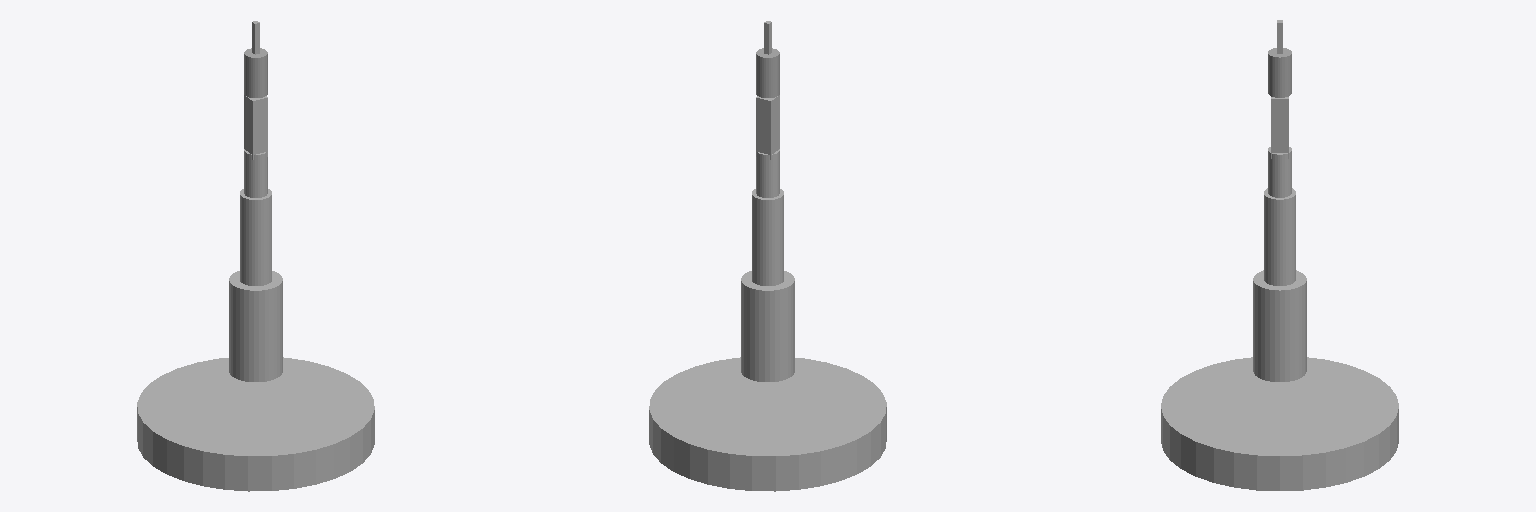
robot.urdf — manipulator:
<?xml version="1.0" ?>
<robot name="manipulator">
    <material name="yellow">
        <color rgba="0.0 0.8 0.0 1.0" />
    </material>
    <material name="red">
        <color rgba="0.0 0.8 0.0 1.0" />
    </material>
    <material name="black">
        <color rgba="0.0 0.0 0.0 1.0" />
    </material>
    <material name="blue">
        <color rgba="0.0 0.0 0.0 1.0" />
    </material>
    <material name="white">
        <color rgba="0.0 0.0 0.0 1.0" />
    </material>
    <link name="world" />
    <!-- BASE LINK -->
    <link name="base_link">
        <visual>
            <origin rpy="0 0 0" xyz="0 0 0.01" />
            <material name="silver">
                <color rgba="0.75 0.75 0.75 1" />
            </material>
        </visual>
        <collision>
            <origin rpy="0 0 0" xyz="0 0 0.01" />
            <geometry>
                <cylinder length="0.02" radius="0.5" />
            </geometry>
        </collision>

<inertial>
            <mass value="0.1" />
            <inertia ixx="0.03" iyy="0.03" izz="0.03" ixy="0.0" ixz="0.0" iyz="0.0" />
        </inertial>

    </link>
    <gazebo reference="base_link">
        <material>Gazebo/White</material>
        <turnGravityOff>false</turnGravityOff>
    </gazebo>
    <!-- joint -->
    <joint name="fixed" type="fixed">
        <parent link="world" />
        <child link="base_link" />
    </joint>
    <!-- LINK 1 -->
    <link name="link1">
        <visual>
            <!-- <origin rpy="0 0 0" xyz="0 0 0.05" /> -->
            <origin rpy="0 0 0" xyz="0 0 0.065" />
            <!-- linknte paathi distance -->
            <geometry>
                <cylinder length="0.13" radius="0.40" />
            </geometry>
            <material name="silver">
                <color rgba="0.75 0.75 0.75 1" />
            </material>
        </visual>
        <collision>
            <origin rpy="0 0 0" xyz="0 0 0.065" />
            <geometry>
                <cylinder length="0.130" radius="0.40" />
            </geometry>
        </collision>

<inertial>
            <mass value="0.1" />
            <inertia ixx="0.03" iyy="0.03" izz="0.03" ixy="0.0" ixz="0.0" iyz="0.0" />
        </inertial>

    </link>
    <gazebo reference="link1">
        <material>Gazebo/Black</material>
        <turnGravityOff>false</turnGravityOff>
    </gazebo>
    <!-- JOINT 1 -->
    <joint name="joint1" type="revolute">
        <!-- <origin rpy="0 0 0" xyz="0 0 0.01" /> -->
        <origin rpy="0 0 0" xyz="0 0 0" />
        <!--parent linknte distance -->
        <parent link="base_link" />
        <child link="link1" />
        <axis xyz="0 0 1" />
        <limit lower="-6.28" upper="6.28" effort="100" velocity="1" />
        <dynamics damping="0.01" friction="0.01" />
    </joint>
    <!-- LINK 2 -->
    <link name="link2">
        <visual>
            <!-- <origin rpy="0 0 0" xyz="0 0 0.15" /> -->
            <origin rpy="0 0 0" xyz="0 0 0.17" />
            <geometry>
                <cylinder length="0.34" radius="0.09" />
            </geometry>
            <material name="silver">
                <color rgba="0.75 0.75 0.75 1" />
            </material>
        </visual>
        <collision>
            <!-- <origin rpy="0 0 0" xyz="0 0 0.15" /> -->
            <origin rpy="0 0 0" xyz="0 0 0.125" />
            <geometry>
                <cylinder length="0.25" radius="0.09" />
            </geometry>
        </collision>

<inertial>
            <mass value="0.1" />
            <inertia ixx="0.03" iyy="0.03" izz="0.03" ixy="0.0" ixz="0.0" iyz="0.0" />
        </inertial>

    </link>
    <gazebo reference="link2">
        <material>Gazebo/Blue</material>
        <turnGravityOff>false</turnGravityOff>
    </gazebo>
    <!-- JOINT 2 -->
    <joint name="joint2" type="revolute">
        <origin rpy="0 0 0" xyz="0 0 0.26" />
        <parent link="link1" />
        <child link="link2" />
        <axis xyz="0 1 0" />
        <limit lower="-1.4835" upper="1.4835" effort="100" velocity="1" />
        <dynamics damping="0.01" friction="0.01" />
    </joint>
    <!-- LINK 3 -->
    <link name="link3">
        <visual>
            <!-- <origin rpy="0 0 0" xyz="0 0 0.15" /> -->
            <origin rpy="0 0 0" xyz="0 0 0.17" />
            <geometry>
                <cylinder length="0.340" radius="0.055" />
            </geometry>
            <material name="silver">
                <color rgba="0.75 0.75 0.75 1" />
            </material>
        </visual>
        <collision>
            <!-- <origin rpy="0 0 0" xyz="0 0 0.15" /> -->
            <origin rpy="0 0 0" xyz="0 0 0.125" />
            <geometry>
                <cylinder length="0.25" radius="0.055" />
            </geometry>
        </collision>

<inertial>
            <mass value="0.1" />
            <inertia ixx="0.03" iyy="0.03" izz="0.03" ixy="0.0" ixz="0.0" iyz="0.0" />
        </inertial>

    </link>
    <gazebo reference="link3">
        <material>Gazebo/Black</material>
        <turnGravityOff>false</turnGravityOff>
    </gazebo>
    <!-- JOINT 3 -->
    <joint name="joint3" type="revolute">
        <origin rpy="0 0 0" xyz="0 0 0.32" />
        <parent link="link2" />
        <child link="link3" />
        <axis xyz="0 1 0" />
        <limit lower="-1.4835" upper="1.4835" effort="100" velocity="1" />
        <dynamics damping="0.01" friction="0.01" />
    </joint>
    <!-- LINK 4 -->
    <link name="link4">
        <visual>
            <!-- <origin rpy="0 0 0" xyz="0 0 0.05" /> -->
            <origin rpy="0 0 0" xyz="0 0 0.09" />
            <geometry>
                <!-- <box size="0.03 0.03 0.1" /> -->
                <cylinder length="0.180" radius="0.04" />
            </geometry>
            <material name="silver">
                <color rgba="0.75 0.75 0.75 1" />
            </material>
        </visual>
        <collision>
            <!-- <origin rpy="0 0 0" xyz="0 0 0.05" /> -->
            <origin rpy="0 0 0" xyz="0 0 0.45" />
            <geometry>
                <!-- <box size="0.03 0.03 0.1" /> -->
                <cylinder length="0.09" radius="0.04" />
            </geometry>
        </collision>

<inertial>
            <mass value="0.1" />
            <inertia ixx="0.03" iyy="0.03" izz="0.03" ixy="0.0" ixz="0.0" iyz="0.0" />
        </inertial>

    </link>
    <gazebo reference="link4">
        <material>Gazebo/Blue</material>
        <turnGravityOff>false</turnGravityOff>
    </gazebo>
    <!-- JOINT 4 -->
    <joint name="joint4" type="revolute">
        <origin rpy="0 0 0" xyz="0 0 0.32" />
        <parent link="link3" />
        <child link="link4" />
        <axis xyz="0 1 0" />
        <limit lower="-1.4835" upper="1.4835" effort="100" velocity="1" />
        <dynamics damping="0.01" friction="0.01" />
    </joint>
    <!-- LINK 5 -->
    <link name="link5">
        <visual>
            <!-- <origin rpy="0 0 0" xyz="0 0 0.05" /> is always in the middle of the geomtry-->
            <origin rpy="0 0 0" xyz="0 0 0.11" />
            <geometry>
                <box size="0.06 0.06 0.22" />
            </geometry>
            <material name="silver">
                <color rgba="0.75 0.75 0.75 1" />
            </material>
        </visual>
        <collision>
            <!-- <origin rpy="0 0 0" xyz="0 0 0.05" /> -->
            <origin rpy="0 0 0" xyz="0 0 0.05" />
            <geometry>
                <box size="0.06 0.06 0.1" />
            </geometry>
        </collision>

<inertial>
            <mass value="0.1" />
            <inertia ixx="0.03" iyy="0.03" izz="0.03" ixy="0.0" ixz="0.0" iyz="0.0" />
        </inertial>

    </link>
    <gazebo reference="link5">
        <material>Gazebo/Black</material>
        <turnGravityOff>false</turnGravityOff>
    </gazebo>
    <!-- JOINT 5 -->
    <joint name="joint5" type="revolute">
        <origin rpy="0 0 0" xyz="0 0 0.16" />
        <parent link="link4" />
        <child link="link5" />
        <axis xyz="0 0 1" />
        <limit lower="-1.72" upper="1.72" effort="100" velocity="1" />
        <dynamics damping="0.01" friction="0.01" />
    </joint>
    <!-- LINK 6 -->
    <link name="link6">
        <visual>
            <!-- <origin rpy="0 0 0" xyz="0 0 0.05" /> -->
            <origin rpy="0 0 0" xyz="0 0 0.075" />
            <geometry>
                <cylinder length="0.15" radius="0.04" />
            </geometry>
            <material name="silver">
                <color rgba="0.75 0.75 0.75 1" />
            </material>
            <material name="Blue" />
        </visual>
        <collision>
            <!-- <origin rpy="0 0 0" xyz="0 0 0.05" /> -->
            <origin rpy="0 0 0" xyz="0 0 0.05" />
            <geometry>
                <cylinder length="0.10" radius="0.03" />
            </geometry>
        </collision>

<inertial>
            <mass value="0.1" />
            <inertia ixx="0.03" iyy="0.03" izz="0.03" ixy="0.0" ixz="0.0" iyz="0.0" />
        </inertial>

    </link>
    <gazebo reference="link6">
        <material>Gazebo/Blue</material>
        <turnGravityOff>false</turnGravityOff>
    </gazebo>
    <!-- JOINT 6 -->
    <joint name="joint6" type="revolute">
        <origin rpy="0 0 0" xyz="0 0 0.23" />
        <parent link="link5" />
        <child link="link6" />
        <axis xyz="0 1 0" />
        <limit lower="-1.4835" upper="1.4835" effort="100" velocity="1" />
        <dynamics damping="0.01" friction="0.01" />
    </joint>


    <link name="link7">
        <visual>
            <origin rpy="0 0 0" xyz="0 0 -0.075" />
            <geometry>
                <box size="0.02 0.02 0.15" />
            </geometry>
            <material name="silver">
                <color rgba="0.75 0.75 0.75 1" />
            </material>
        </visual>
        <collision>
            <origin rpy="0 0 0" xyz="0 0 -0.075" />
            <geometry>
                <box size="0.02 0.02 0.15" />
            </geometry>
            <material name="blue">
                <color rgba="0 0 0.75 1" />
            </material>

        </collision>

        <inertial>
            <mass value="0.1" />
            <inertia ixx="0.03" iyy="0.03" izz="0.03" ixy="0.0" ixz="0.0" iyz="0.0" />
        </inertial>
    </link>

    <gazebo reference="link7">
        <material>Gazebo/Blue</material>
        <turnGravityOff>false</turnGravityOff>
    </gazebo>

    <joint name="joint7" type="revolute">
        <origin rpy="0 0 0" xyz="0 0 0.264" />
        <parent link="link6" />
        <child link="link7" />
        <axis xyz="0 0 1" />
        <limit lower="-3.14" upper="3.14" effort="100" velocity="1" />
        <dynamics damping="0.01" friction="0.01" />
    </joint>


    <link name="tcp">
        <visual>
            <origin rpy="0 0 0" xyz="0 0 0" />
            <geometry>
                <box size="0 0 0" />
            </geometry>
            <material name="silver">
                <color rgba="0.75 0.75 0.75 1" />
            </material>
        </visual>
        <collision>
            <origin rpy="0 0 0" xyz="0 0 0" />
            <geometry>
                <box size="0 0 0" />
            </geometry>
            <material name="blue">
                <color rgba="0 0 0.75 1" />
            </material>

        </collision>

        <inertial>
            <mass value="0.1" />
            <inertia ixx="0.03" iyy="0.03" izz="0.03" ixy="0.0" ixz="0.0" iyz="0.0" />
        </inertial>
    </link>

    <gazebo reference="tcp">
        <material>Gazebo/Blue</material>
        <turnGravityOff>false</turnGravityOff>
    </gazebo>

    <joint name="joint7_tcp" type="fixed">
        <origin rpy="0 0 0" xyz="0 0 0" />
        <parent link="link7" />
        <child link="tcp" />
    </joint>

    <!-- <link name="TCP">
        <visual>
            <origin rpy="0 0 0" xyz="0 0 0" />
        </visual>
        <collision>
            <origin rpy="0 0 0" xyz="0 0 0" />
        </collision>

<inertial>
            <mass value="0.1" />
            <inertia ixx="0.03" iyy="0.03" izz="0.03" ixy="0.0" ixz="0.0" iyz="0.0" />
        </inertial>

    </link>
    <joint name="joint6_TCP" type="fixed">
        <parent link="joint6" />
        <child link="TCP" />
        <origin xyz="0 0 0.2" />
    </joint> -->


<transmission name="trans_joint1">
        <type>transmission_interface/SimpleTransmission</type>
        <joint name="joint1">
            <hardwareInterface>hardware_interface/PositionJointInterface</hardwareInterface>
        </joint>
        <actuator name="joint1_motor">
            <hardwareInterface>hardware_interface/PositionJointInterface</hardwareInterface>
            <mechanicalReduction>1</mechanicalReduction>
        </actuator>
    </transmission>
    <transmission name="trans_joint2">
        <type>transmission_interface/SimpleTransmission</type>
        <joint name="joint2">
            <hardwareInterface>hardware_interface/PositionJointInterface</hardwareInterface>
        </joint>
        <actuator name="joint2_motor">
            <hardwareInterface>hardware_interface/PositionJointInterface</hardwareInterface>
            <mechanicalReduction>1</mechanicalReduction>
        </actuator>
    </transmission>
    <transmission name="trans_joint3">
        <type>transmission_interface/SimpleTransmission</type>
        <joint name="joint3">
            <hardwareInterface>hardware_interface/PositionJointInterface</hardwareInterface>
        </joint>
        <actuator name="joint3_motor">
            <hardwareInterface>hardware_interface/PositionJointInterface</hardwareInterface>
            <mechanicalReduction>1</mechanicalReduction>
        </actuator>
    </transmission>
    <transmission name="trans_joint4">
        <type>transmission_interface/SimpleTransmission</type>
        <joint name="joint4">
            <hardwareInterface>hardware_interface/PositionJointInterface</hardwareInterface>
        </joint>
        <actuator name="joint4_motor">
            <hardwareInterface>hardware_interface/PositionJointInterface</hardwareInterface>
            <mechanicalReduction>1</mechanicalReduction>
        </actuator>
    </transmission>
    <transmission name="trans_joint5">
        <type>transmission_interface/SimpleTransmission</type>
        <joint name="joint5">
            <hardwareInterface>hardware_interface/PositionJointInterface</hardwareInterface>
        </joint>
        <actuator name="joint5_motor">
            <hardwareInterface>hardware_interface/PositionJointInterface</hardwareInterface>
            <mechanicalReduction>1</mechanicalReduction>
        </actuator>
    </transmission>
    <transmission name="trans_joint6">
        <type>transmission_interface/SimpleTransmission</type>
        <joint name="joint6">
            <hardwareInterface>hardware_interface/PositionJointInterface</hardwareInterface>
        </joint>
        <actuator name="joint6_motor">
            <hardwareInterface>hardware_interface/PositionJointInterface</hardwareInterface>
            <mechanicalReduction>1</mechanicalReduction>
        </actuator>
    </transmission>
    <transmission name="trans_joint7">
        <type>transmission_interface/SimpleTransmission</type>
        <joint name="joint7">
            <hardwareInterface>hardware_interface/PositionJointInterface</hardwareInterface>
        </joint>
        <actuator name="joint7_motor">
            <hardwareInterface>hardware_interface/PositionJointInterface</hardwareInterface>
            <mechanicalReduction>1</mechanicalReduction>
        </actuator>
    </transmission>
    <gazebo>
        <plugin name="gazebo_ros_control" filename="libgazebo_ros_control.so">
            <robotNamespace>/</robotNamespace>
        </plugin>
    </gazebo>
    <gazebo>
        <plugin name="gazebo_grasp_fix" filename="libgazebo_grasp_fix.so">
            <arm>
                <arm_name>arm</arm_name>
                <palm_link>link6</palm_link>
            </arm>
            <forces_angle_tolerance>100</forces_angle_tolerance>
            <update_rate>4</update_rate>
            <grip_count_threshold>4</grip_count_threshold>
            <max_grip_count>8</max_grip_count>
            <release_tolerance>0.005</release_tolerance>
            <disable_collisions_on_attach>false</disable_collisions_on_attach>
            <contact_topic>__default_topic__</contact_topic>
        </plugin>
    </gazebo>
</robot>

--- What the picture shows (computed from the rendered views, not written in the file) ---
The picture shows the robot from 3 angles, left to right: view 1: azimuth 30°, elevation 25°; view 2: azimuth 150°, elevation 25°; view 3: azimuth 270°, elevation 25°; orthographic projection.
Robot: manipulator — 10 links, 9 joints (7 revolute, 2 fixed); root link world; default pose: every joint at zero.
Visible links, largest first — view 1: link1, link2, link3, link5, link6, link4; view 2: link1, link2, link3, link5, link6, link4; view 3: link1, link2, link3, link6, link4, link5.
Link boxes in pixels (box(x1,y1,x2,y2)): link1: box(137, 357, 374, 491); link2: box(229, 271, 282, 381); link3: box(240, 189, 271, 285); link5: box(244, 95, 267, 159); link6: box(244, 48, 267, 97); link4: box(244, 149, 267, 197); link1: box(649, 357, 886, 491); link2: box(741, 271, 794, 381); link3: box(752, 189, 783, 285); link5: box(756, 95, 779, 159); link6: box(756, 48, 779, 97); link4: box(756, 149, 779, 197); link1: box(1161, 357, 1398, 490); link2: box(1253, 270, 1306, 381); link3: box(1264, 188, 1295, 285); link6: box(1268, 48, 1291, 97); link4: box(1268, 147, 1291, 197); link5: box(1271, 97, 1288, 158).
Size in the robot's own frame: 0.8 by 0.8 by 1.55 metres.
Geometry: primitives only (box / cylinder / sphere), no mesh files.